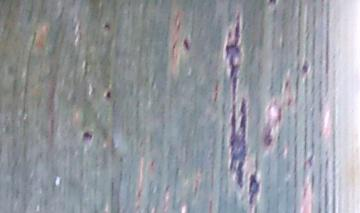tarspot: (225, 10, 248, 190), (248, 170, 260, 209), (80, 127, 94, 147), (297, 61, 312, 76), (101, 87, 114, 102), (180, 36, 190, 52), (101, 20, 111, 33)
